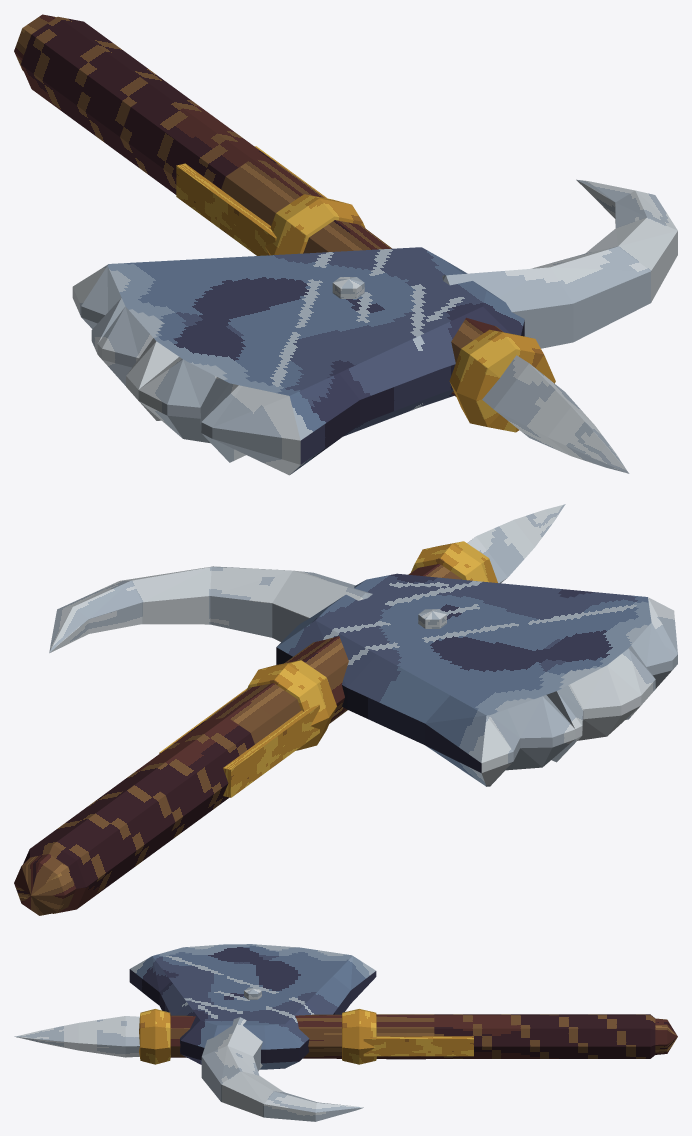
Rendered from hunters_axe.glb.
3 renders of one model, top to bottom at view 1: azimuth 30°, elevation 25°; view 2: azimuth 150°, elevation 25°; view 3: azimuth 270°, elevation 25°, orthographic. The views are drawn at different scales.
Visible parts, largest first — view 1: axe; view 2: axe; view 3: axe.
Boxes of the visible parts, <box> form: axe: <box>14,14,677,475</box>; axe: <box>14,504,677,915</box>; axe: <box>14,944,677,1121</box>.
Size of the model in its own units: 0.318 by 0.056 by 0.5625.
Materials: 1 (1 with a texture image).
